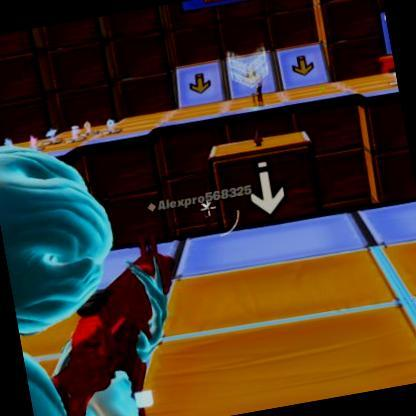person: (201, 209, 217, 235)
